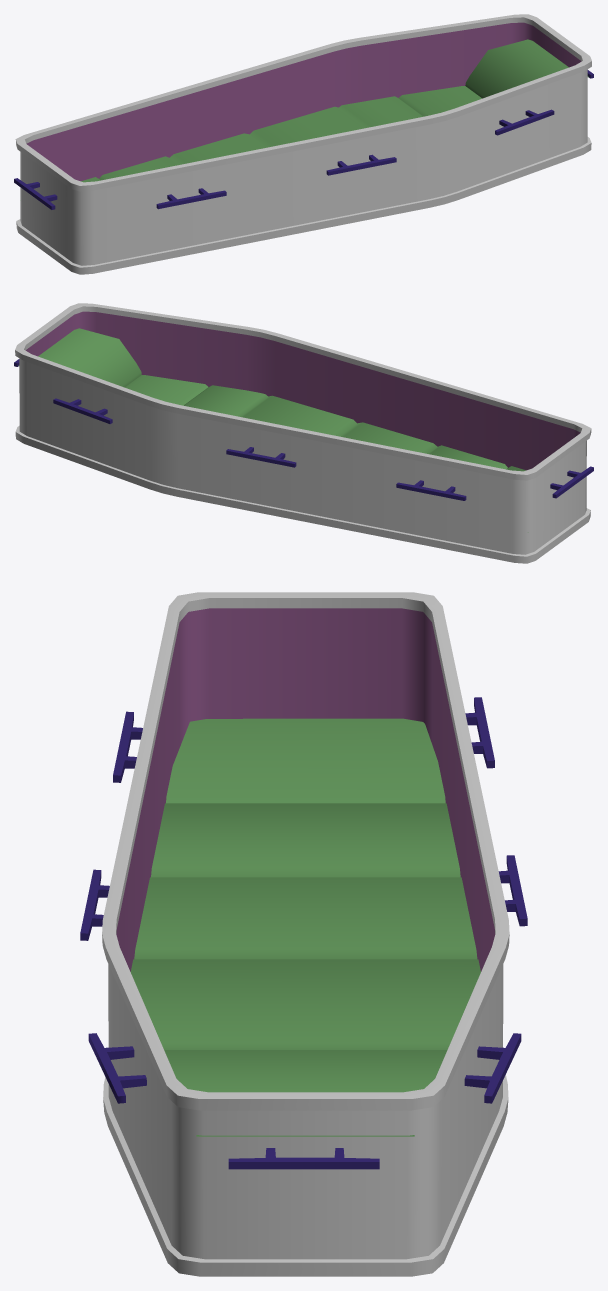
The model's file is coffin.fbx.
The picture shows the model from 3 angles, top to bottom: view 1: azimuth 30°, elevation 25°; view 2: azimuth 150°, elevation 25°; view 3: azimuth 270°, elevation 25°; orthographic projection. The views are drawn at different scales.
Visible parts, largest first — view 1: Box001, Line006, Line005; view 2: Box001, Line006, Line005; view 3: Box001, Line006, Line005.
Boxes of the visible parts, x1=… form: Box001: x1=15, y1=14, x2=591, y2=274; Line006: x1=20, y1=39, x2=588, y2=200; Line005: x1=14, y1=70, x2=593, y2=209; Box001: x1=15, y1=303, x2=591, y2=563; Line006: x1=18, y1=328, x2=528, y2=532; Line005: x1=14, y1=359, x2=593, y2=500; Box001: x1=102, y1=592, x2=509, y2=1276; Line006: x1=130, y1=718, x2=480, y2=1136; Line005: x1=80, y1=697, x2=527, y2=1169.
Bounding box in the file's own units: 120 × 18.98 × 42.97.
